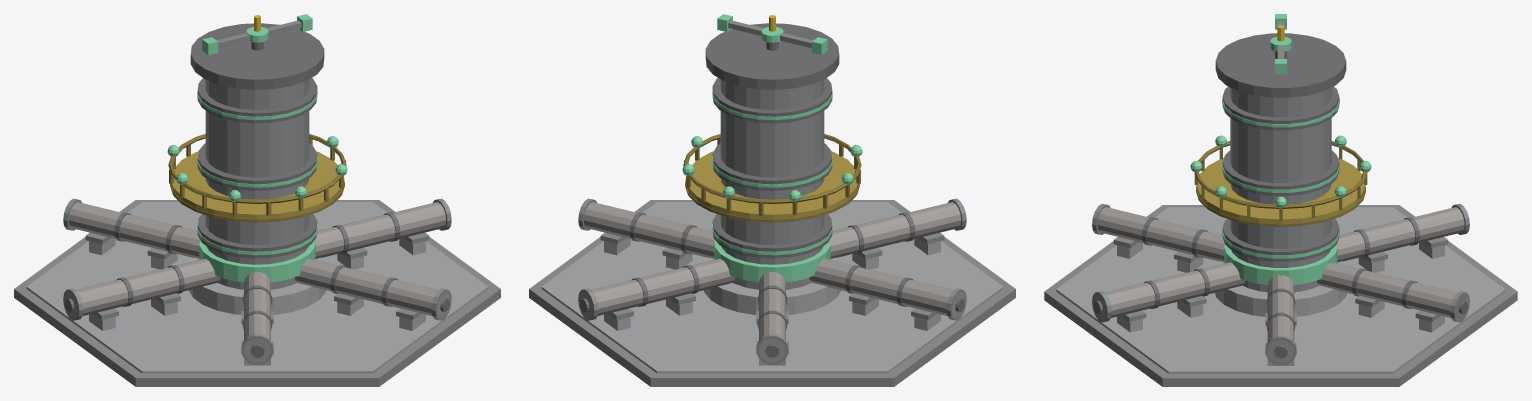
File: distributor_s2_50.glb
3 views of the same model, side by side, from view 1: azimuth 30°, elevation 25°; view 2: azimuth 150°, elevation 25°; view 3: azimuth 270°, elevation 25° (orthographic). The views are drawn at different scales.
Parts seen in each view (by area): view 1: D_FoundRim, D_Tower, D_Foundation, D_TowerCap, D_BalconyPlatform, D_PipeWest, D_PipeSE, D_PipeEast, D_PipeNW, D_TowerCollar, D_PipeSW, D_CoreRing (+8 smaller); view 2: D_FoundRim, D_Tower, D_Foundation, D_TowerCap, D_BalconyPlatform, D_PipeWest, D_PipeNE, D_PipeEast, D_PipeSW, D_TowerCollar, D_PipeNW, D_CoreRing (+8 smaller); view 3: D_FoundRim, D_Tower, D_Foundation, D_TowerCap, D_BalconyPlatform, D_PipeSE, D_PipeNE, D_PipeNW, D_PipeSW, D_TowerCollar, D_PipeEast, D_CoreRing (+10 smaller).
Boxes of the visible parts, left/top/right/bottom form: D_FoundRim: left=26, top=202, right=488, bottom=373; D_Tower: left=205, top=79, right=309, bottom=289; D_Foundation: left=14, top=200, right=500, bottom=386; D_TowerCap: left=190, top=23, right=324, bottom=89; D_BalconyPlatform: left=171, top=151, right=344, bottom=219; D_PipeWest: left=64, top=258, right=220, bottom=318; D_PipeSE: left=294, top=259, right=449, bottom=318; D_PipeEast: left=315, top=202, right=446, bottom=258; D_PipeNW: left=68, top=202, right=199, bottom=258; D_TowerCollar: left=189, top=257, right=325, bottom=314; D_PipeSW: left=244, top=272, right=270, bottom=362; D_CoreRing: left=199, top=240, right=315, bottom=282; D_FoundRim: left=541, top=202, right=1003, bottom=373; D_Tower: left=720, top=79, right=824, bottom=289; D_Foundation: left=529, top=200, right=1015, bottom=386; D_TowerCap: left=705, top=23, right=839, bottom=89; D_BalconyPlatform: left=685, top=151, right=858, bottom=219; D_PipeWest: left=809, top=258, right=965, bottom=318; D_PipeNE: left=579, top=259, right=735, bottom=318; D_PipeEast: left=583, top=202, right=714, bottom=258; D_PipeSW: left=830, top=202, right=961, bottom=258; D_TowerCollar: left=704, top=257, right=840, bottom=314; D_PipeNW: left=759, top=272, right=785, bottom=362; D_CoreRing: left=714, top=240, right=830, bottom=282; D_FoundRim: left=1056, top=207, right=1505, bottom=373; D_Tower: left=1230, top=87, right=1331, bottom=292; D_Foundation: left=1044, top=205, right=1517, bottom=386; D_TowerCap: left=1215, top=33, right=1346, bottom=97; D_BalconyPlatform: left=1196, top=157, right=1365, bottom=223; D_PipeSE: left=1093, top=262, right=1244, bottom=319; D_PipeNE: left=1317, top=262, right=1468, bottom=319; D_PipeNW: left=1337, top=207, right=1464, bottom=262; D_PipeSW: left=1097, top=207, right=1224, bottom=262; D_TowerCollar: left=1214, top=261, right=1347, bottom=316; D_PipeEast: left=1267, top=275, right=1294, bottom=363; D_CoreRing: left=1224, top=244, right=1337, bottom=284.
Bounding box in the file's own units: 3.51 × 2.5 × 3.92.
